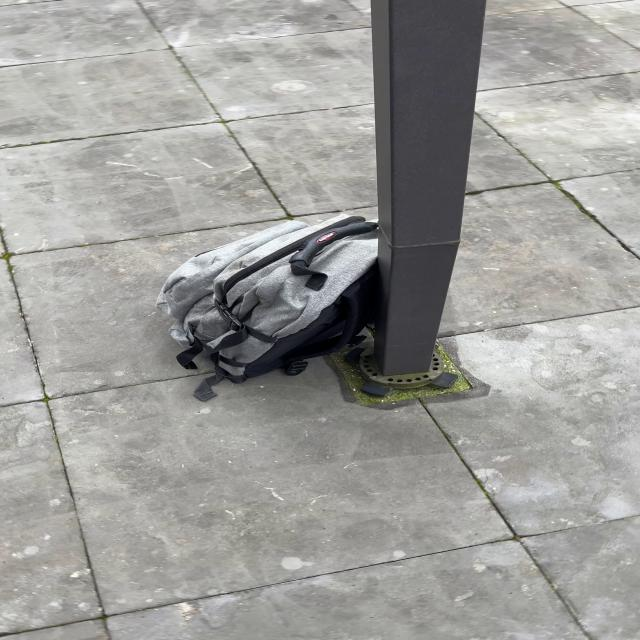backpack: (144, 210, 384, 404)
